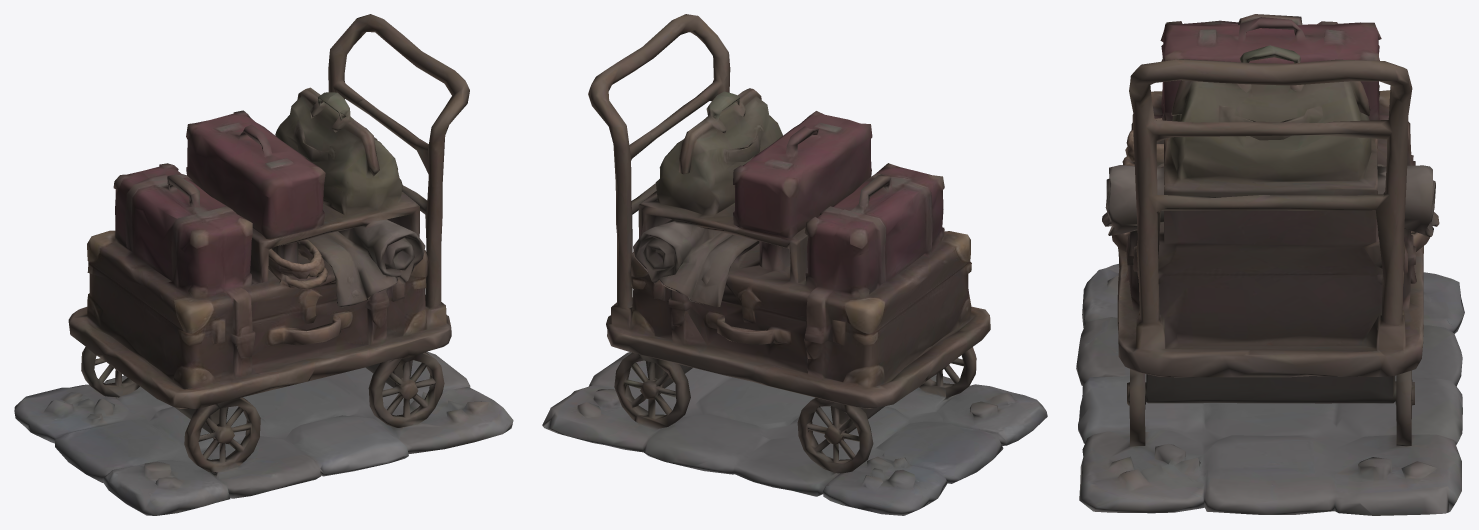
Rendered from railway_station_trolley.glb.
The picture shows the model from 3 angles, left to right: view 1: azimuth 30°, elevation 25°; view 2: azimuth 150°, elevation 25°; view 3: azimuth 270°, elevation 25°; orthographic projection. The views are drawn at different scales.
Parts seen in each view (by area): view 1: tripo_node_a7d5bfe6-4782-4228-9135-09ad3c7635b6; view 2: tripo_node_a7d5bfe6-4782-4228-9135-09ad3c7635b6; view 3: tripo_node_a7d5bfe6-4782-4228-9135-09ad3c7635b6.
Part boxes in pixels (left/top/right/bottom): tripo_node_a7d5bfe6-4782-4228-9135-09ad3c7635b6: left=14, top=14, right=513, bottom=515; tripo_node_a7d5bfe6-4782-4228-9135-09ad3c7635b6: left=542, top=14, right=1047, bottom=515; tripo_node_a7d5bfe6-4782-4228-9135-09ad3c7635b6: left=1076, top=14, right=1464, bottom=515.
Size of the model in its own units: 1 by 0.8619 by 0.6939.
Materials: 1 (1 with a texture image).
